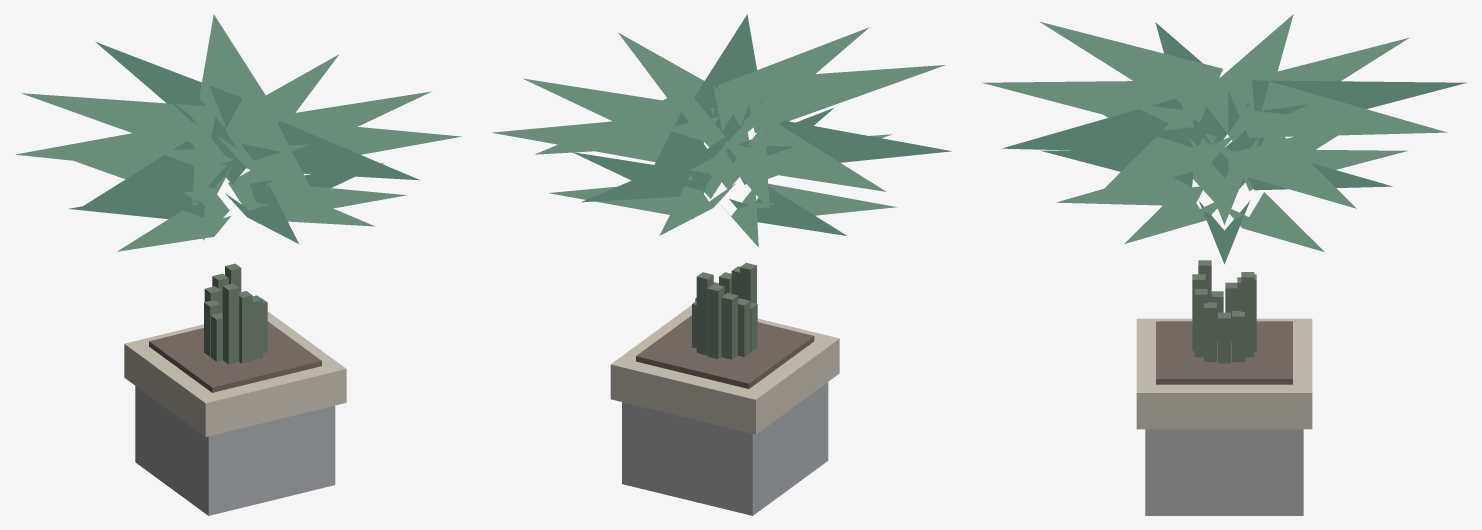
3 views of the same model, side by side, from view 1: azimuth 30°, elevation 25°; view 2: azimuth 150°, elevation 25°; view 3: azimuth 270°, elevation 25° (orthographic). The views are drawn at different scales.
Visible parts, largest first — view 1: RG-GAME-02-INDOOR-GREENERY-V16__STANDALONE_PL04__ASSET_1F_le (×2), RG-GAME-02-INDOOR-GREENERY-V16__STANDALONE_PL04__ASSET_1F_st (×2), RG-GAME-02-INDOOR-GREENERY-V16__STANDALONE_PL04__ASSET_1F_ri, RG-GAME-02-INDOOR-GREENERY-V16__STANDALONE_PL04__ASSET_1F_so; view 2: RG-GAME-02-INDOOR-GREENERY-V16__STANDALONE_PL04__ASSET_1F_le (×2), RG-GAME-02-INDOOR-GREENERY-V16__STANDALONE_PL04__ASSET_1F_st (×2), RG-GAME-02-INDOOR-GREENERY-V16__STANDALONE_PL04__ASSET_1F_ri, RG-GAME-02-INDOOR-GREENERY-V16__STANDALONE_PL04__ASSET_1F_so; view 3: RG-GAME-02-INDOOR-GREENERY-V16__STANDALONE_PL04__ASSET_1F_le (×2), RG-GAME-02-INDOOR-GREENERY-V16__STANDALONE_PL04__ASSET_1F_st (×2), RG-GAME-02-INDOOR-GREENERY-V16__STANDALONE_PL04__ASSET_1F_ri, RG-GAME-02-INDOOR-GREENERY-V16__STANDALONE_PL04__ASSET_1F_so.
Boxes of the visible parts, x1,y1,x2,y2 form: RG-GAME-02-INDOOR-GREENERY-V16__STANDALONE_PL04__ASSET_1F_le (×2): [15, 14, 461, 251]; RG-GAME-02-INDOOR-GREENERY-V16__STANDALONE_PL04__ASSET_1F_st (×2): [135, 263, 335, 515]; RG-GAME-02-INDOOR-GREENERY-V16__STANDALONE_PL04__ASSET_1F_ri: [124, 311, 346, 436]; RG-GAME-02-INDOOR-GREENERY-V16__STANDALONE_PL04__ASSET_1F_so: [149, 321, 321, 392]; RG-GAME-02-INDOOR-GREENERY-V16__STANDALONE_PL04__ASSET_1F_le (×2): [492, 14, 951, 247]; RG-GAME-02-INDOOR-GREENERY-V16__STANDALONE_PL04__ASSET_1F_st (×2): [622, 262, 828, 515]; RG-GAME-02-INDOOR-GREENERY-V16__STANDALONE_PL04__ASSET_1F_ri: [610, 305, 839, 434]; RG-GAME-02-INDOOR-GREENERY-V16__STANDALONE_PL04__ASSET_1F_so: [636, 315, 814, 388]; RG-GAME-02-INDOOR-GREENERY-V16__STANDALONE_PL04__ASSET_1F_le (×2): [982, 14, 1466, 264]; RG-GAME-02-INDOOR-GREENERY-V16__STANDALONE_PL04__ASSET_1F_st (×2): [1145, 260, 1303, 515]; RG-GAME-02-INDOOR-GREENERY-V16__STANDALONE_PL04__ASSET_1F_ri: [1136, 318, 1312, 429]; RG-GAME-02-INDOOR-GREENERY-V16__STANDALONE_PL04__ASSET_1F_so: [1156, 321, 1292, 384].
Size of the model in its own units: 0.956 by 0.8616 by 0.9658.
